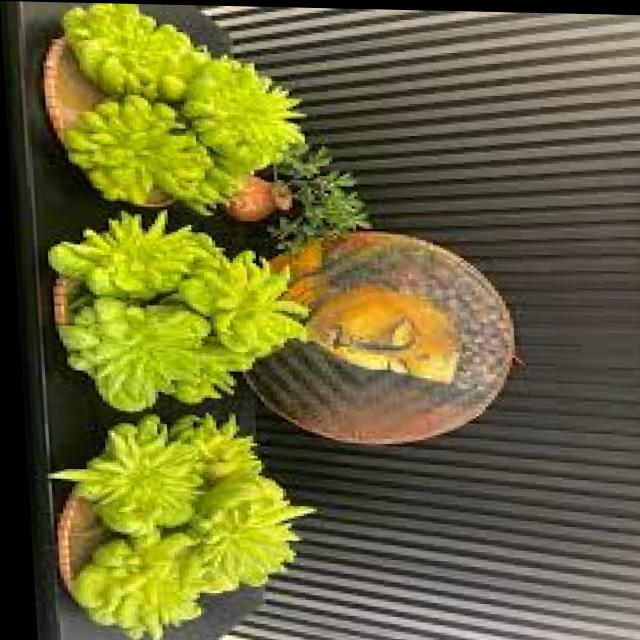PhatThu: (56, 296, 213, 411), (62, 95, 220, 201), (56, 531, 204, 640), (40, 207, 204, 299), (184, 474, 307, 594), (59, 5, 213, 96), (187, 58, 310, 171), (68, 416, 189, 530), (180, 257, 305, 355), (171, 409, 263, 483)
